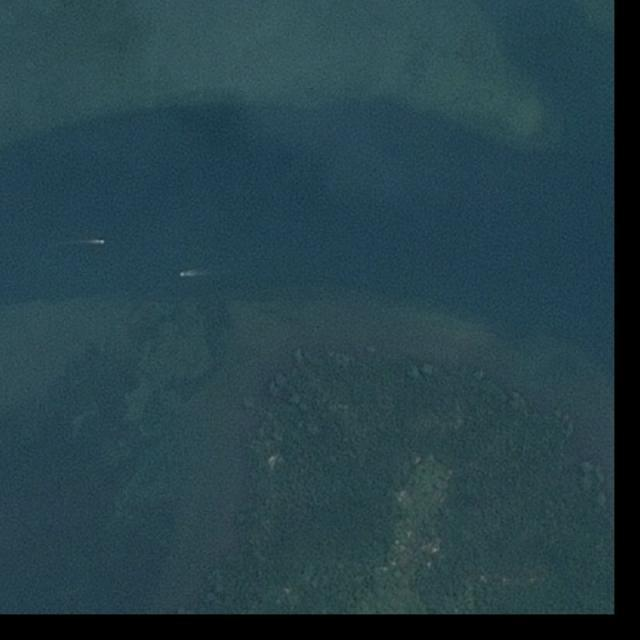ship: (90, 240, 106, 245), (179, 271, 190, 278)
